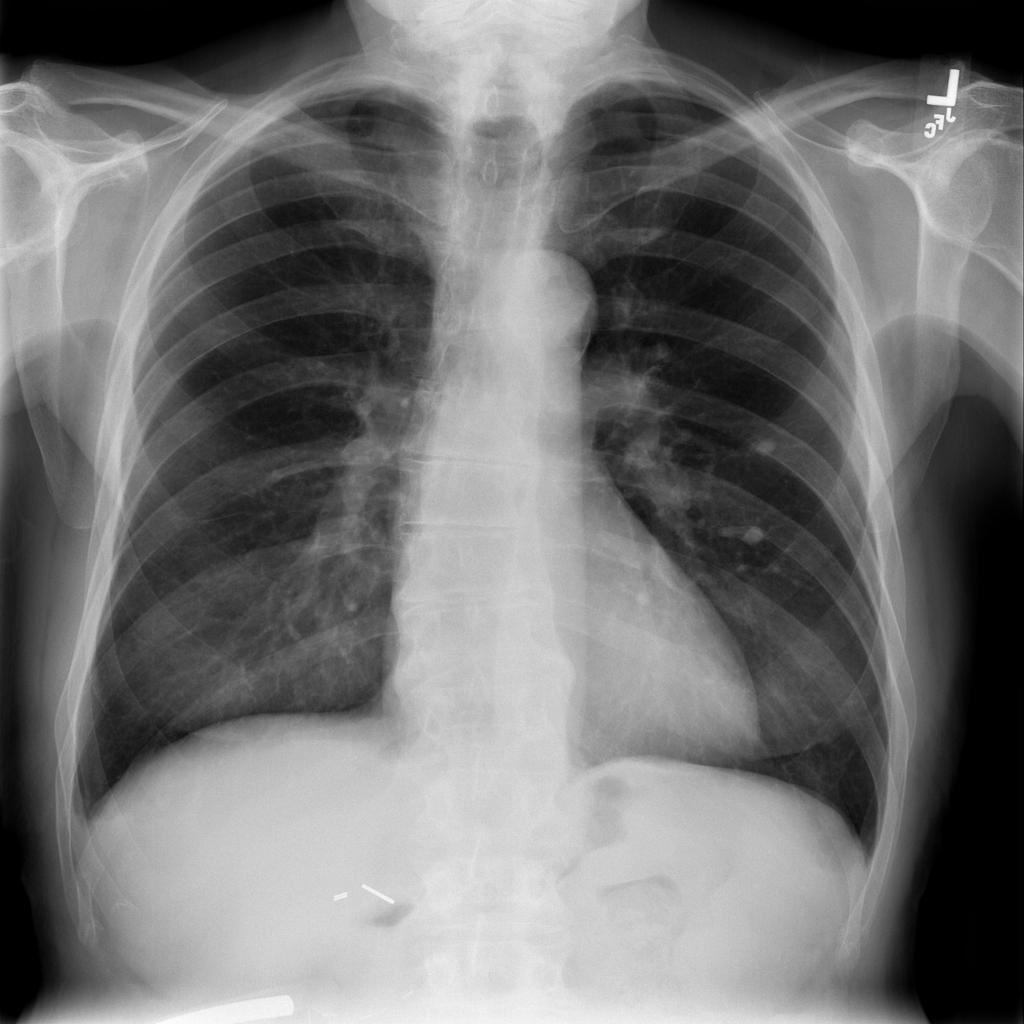nodule: (740, 421, 792, 470), (735, 518, 775, 555)
